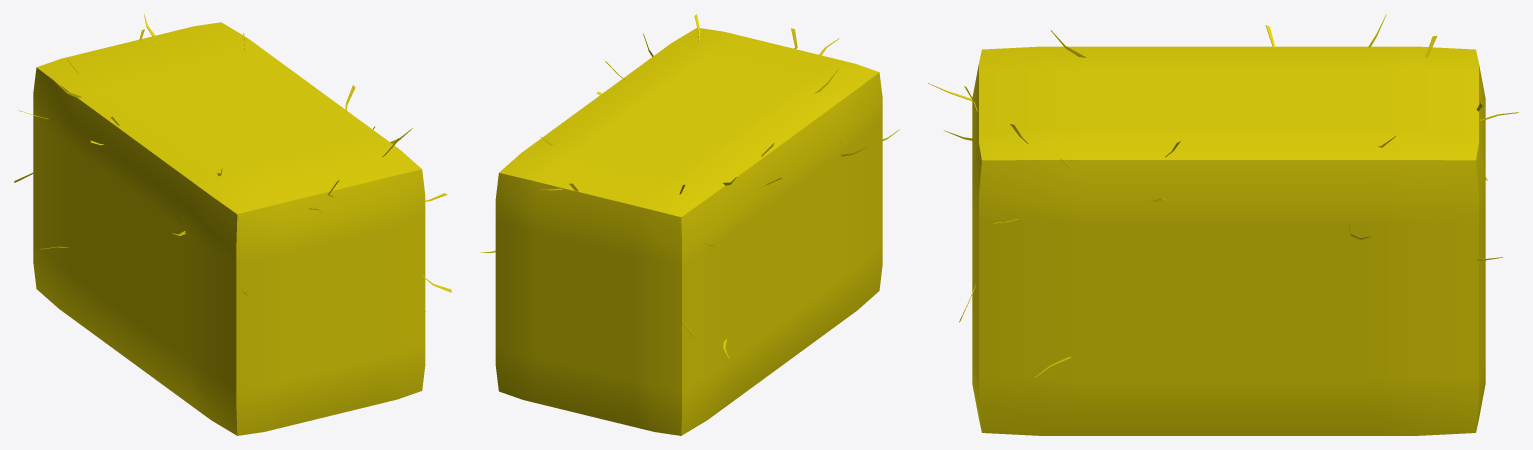
Rendered from hay.fbx.
The picture shows the model from 3 angles, left to right: view 1: azimuth 30°, elevation 25°; view 2: azimuth 150°, elevation 25°; view 3: azimuth 270°, elevation 25°; orthographic projection. The views are drawn at different scales.
Visible parts, largest first — view 1: Line011; view 2: Line011; view 3: Line011.
Part boxes in pixels (x1,y1,x2,y2): Line011: (14,14,451,435); Line011: (480,14,899,435); Line011: (928,14,1518,435).
Bounding box in the file's own units: 3.84 × 3.8 × 6.59.
